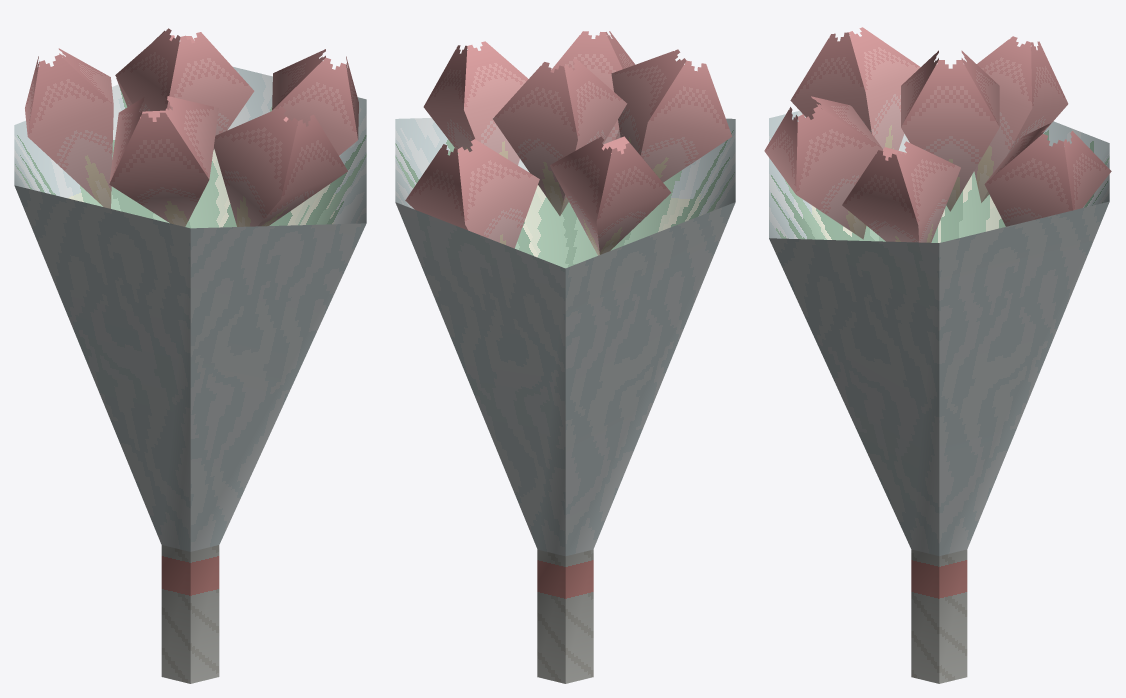
File: 03cd_Tulip_Bouquet.glb
The picture shows the model from 3 angles, left to right: view 1: azimuth 30°, elevation 25°; view 2: azimuth 150°, elevation 25°; view 3: azimuth 270°, elevation 25°; orthographic projection. The views are drawn at different scales.
Parts seen in each view (by area): view 1: part_0; view 2: part_0; view 3: part_0.
Boxes of the visible parts, <box> form: part_0: <box>14,28,366,683</box>; part_0: <box>395,31,735,683</box>; part_0: <box>764,27,1111,683</box>.
Bounding box in the file's own units: 0.3629 × 0.6414 × 0.3203.
1 material, 1 textured.
